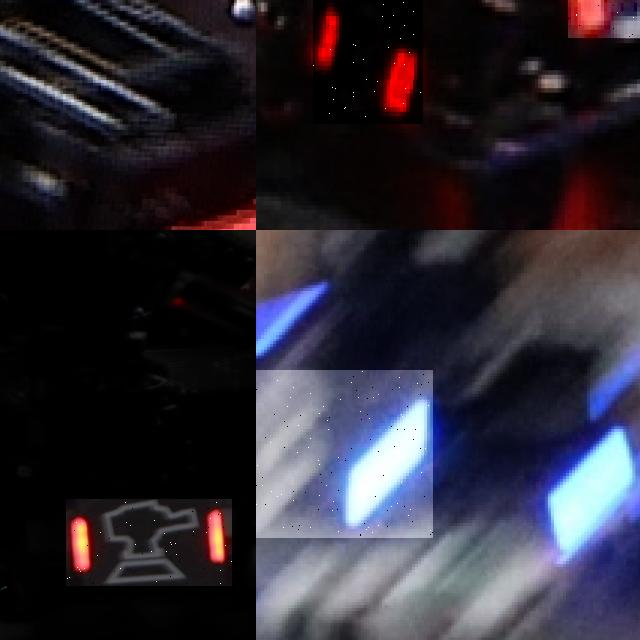B3: (256, 370, 433, 537)
R3: (313, 0, 422, 124)
Rs: (66, 499, 232, 586)
